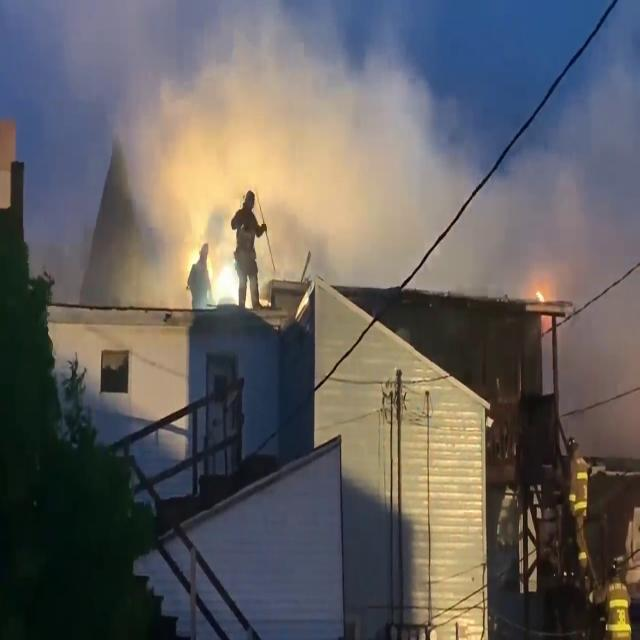Fire: (204, 243, 250, 316)
Smoke: (80, 0, 508, 295), (511, 22, 640, 447)
